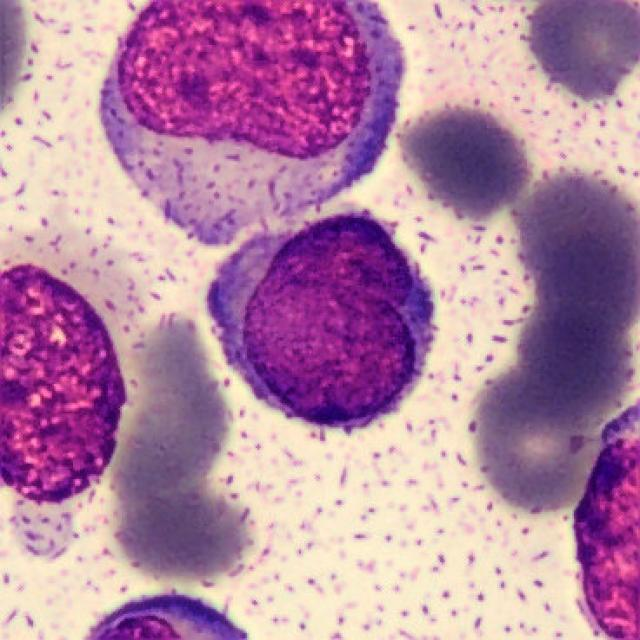Mieloblasto: (103, 0, 400, 244), (207, 216, 437, 431)
